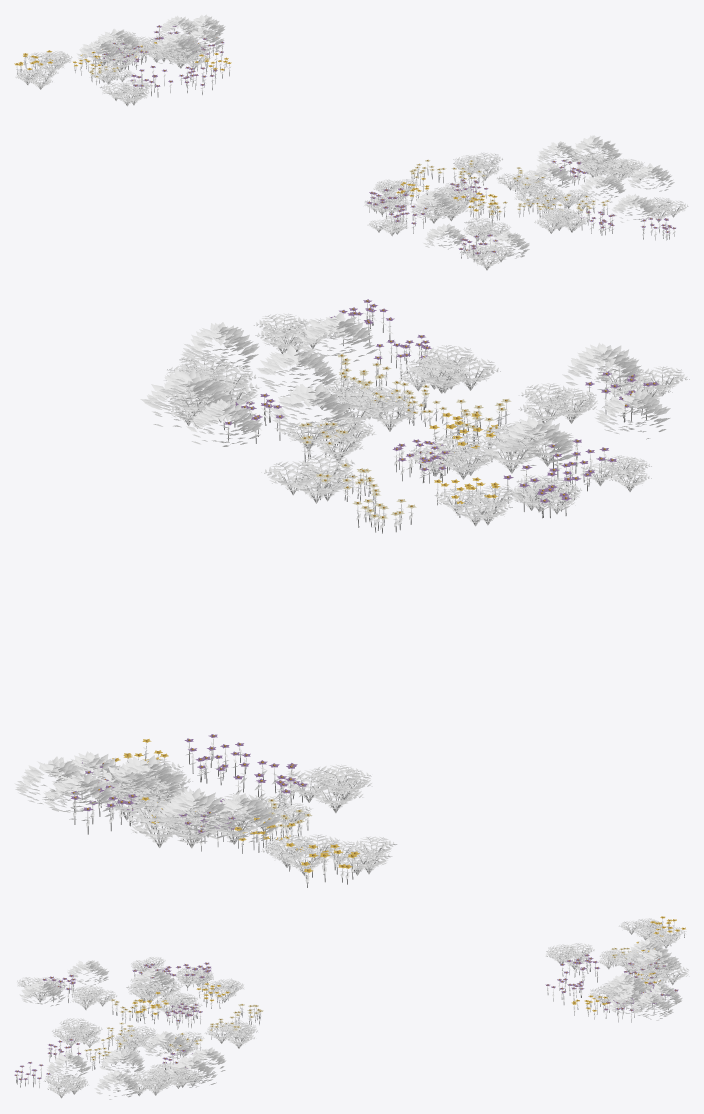
File: SM_DF_Nature_2_0_Flora.fbx
3 views of the same model, one above another, from view 1: azimuth 30°, elevation 25°; view 2: azimuth 150°, elevation 25°; view 3: azimuth 270°, elevation 25° (orthographic). The views are drawn at different scales.
Visible parts, largest first — view 1: SM_DF_Nature_2_0_Flora; view 2: SM_DF_Nature_2_0_Flora; view 3: SM_DF_Nature_2_0_Flora.
Boxes of the visible parts, x1,y1,x2,y2 form: SM_DF_Nature_2_0_Flora: [14, 14, 688, 270]; SM_DF_Nature_2_0_Flora: [14, 299, 689, 887]; SM_DF_Nature_2_0_Flora: [14, 916, 688, 1099].
Bounding box in the file's own units: 1816 × 2806 × 191.
